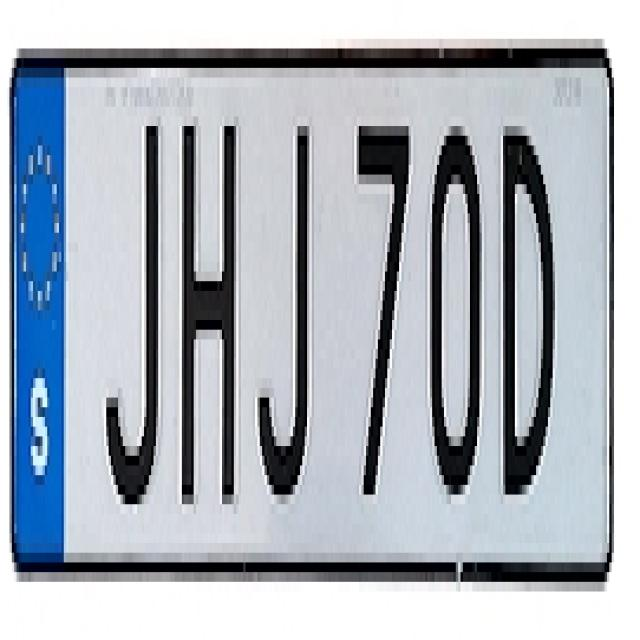EU: (10, 60, 612, 583)
Suede: (12, 54, 65, 573)
